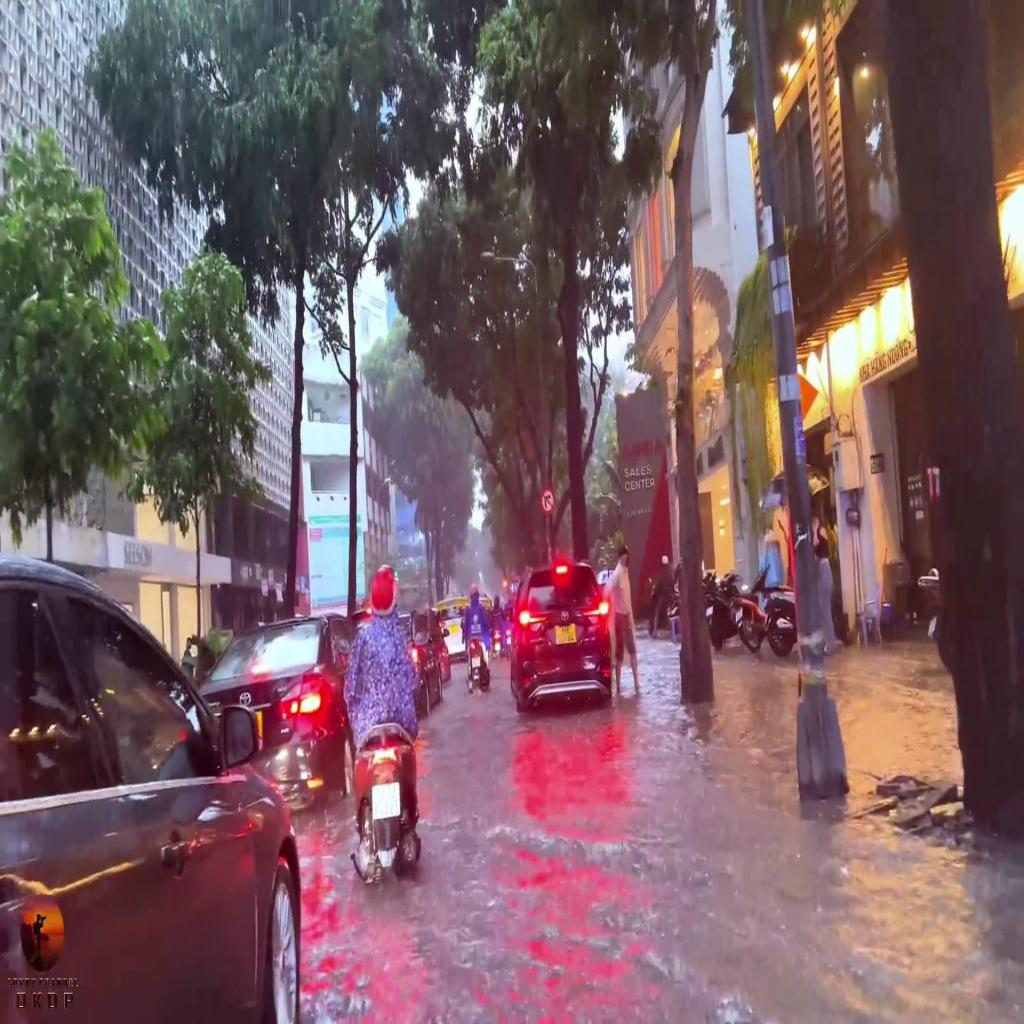cam_re_phai: (539, 486, 556, 516)
